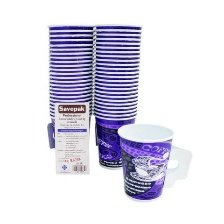paper_cup: (90, 20, 145, 173), (113, 119, 195, 205), (44, 21, 95, 159)
